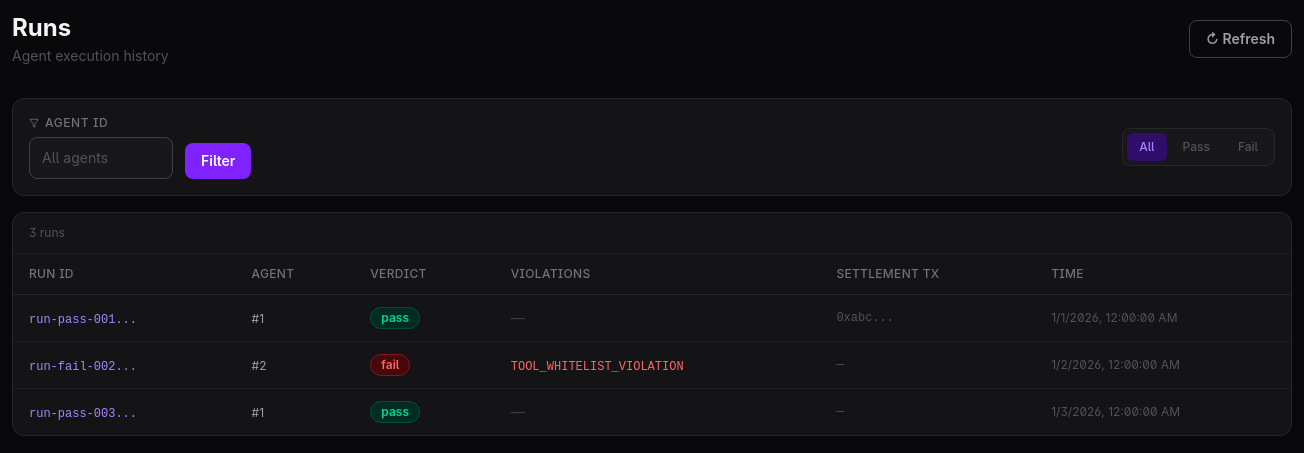
it: Runs — refresh button › re-fetches data on refresh click
Expected: the text "3 runs" is shown, [29,225,65,241]
Click the button "↻ Refresh": x=1240, y=39 [1189,20,1292,58]
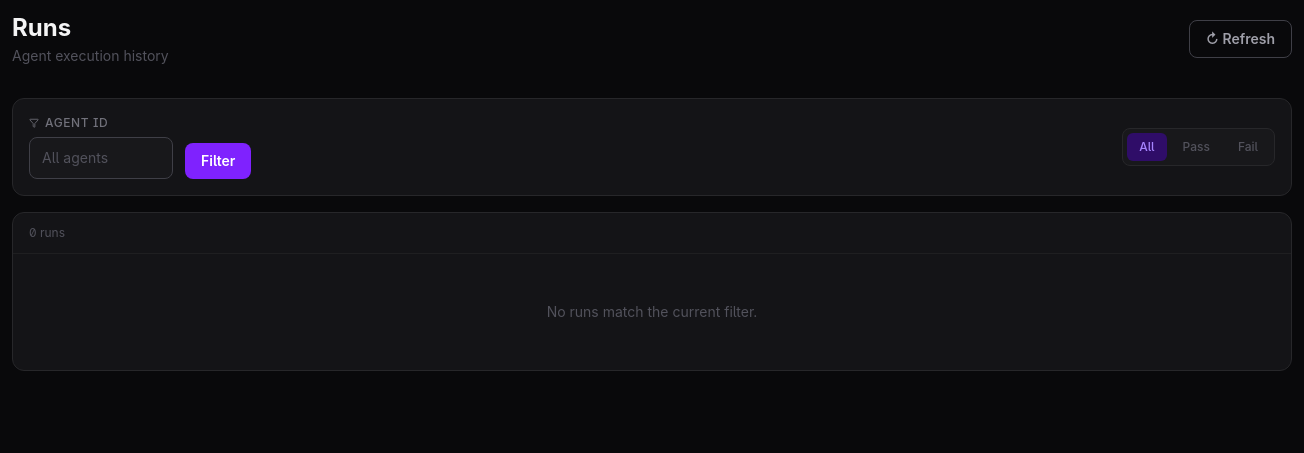
Result: the text "0 runs" is shown at [29,225,65,241]
